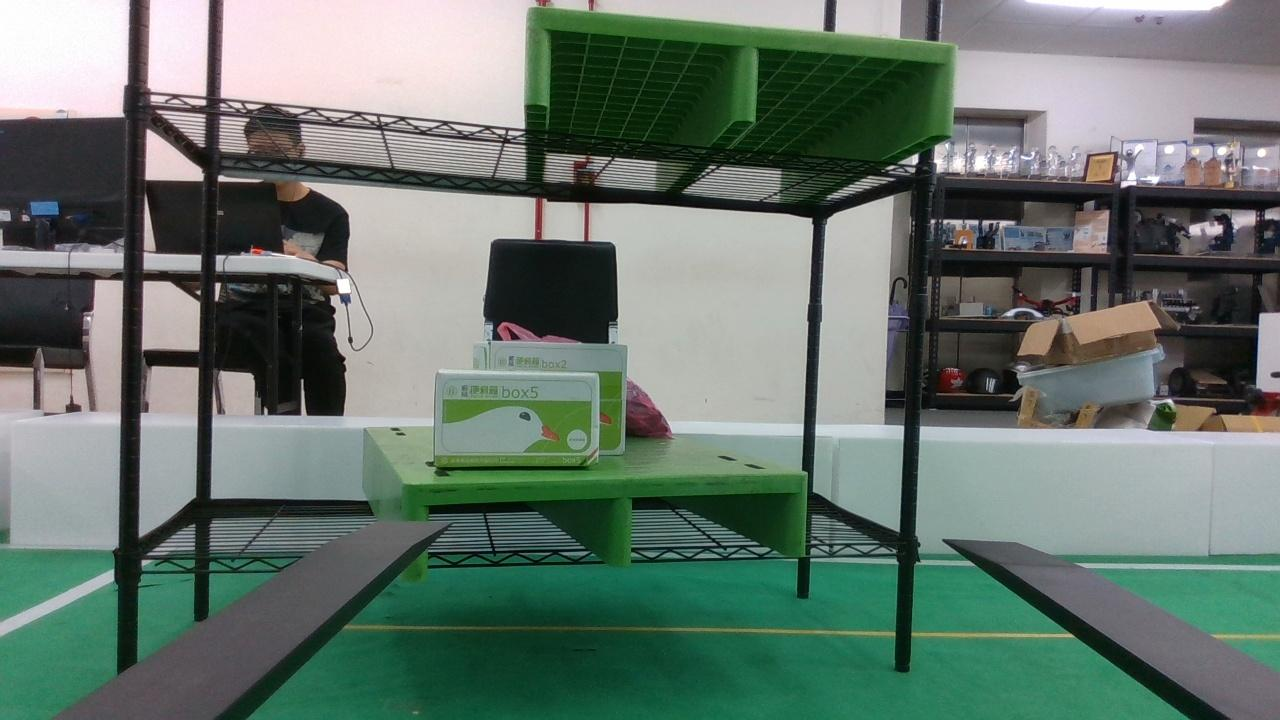Pallet: (522, 11, 963, 140), (394, 473, 808, 584)
